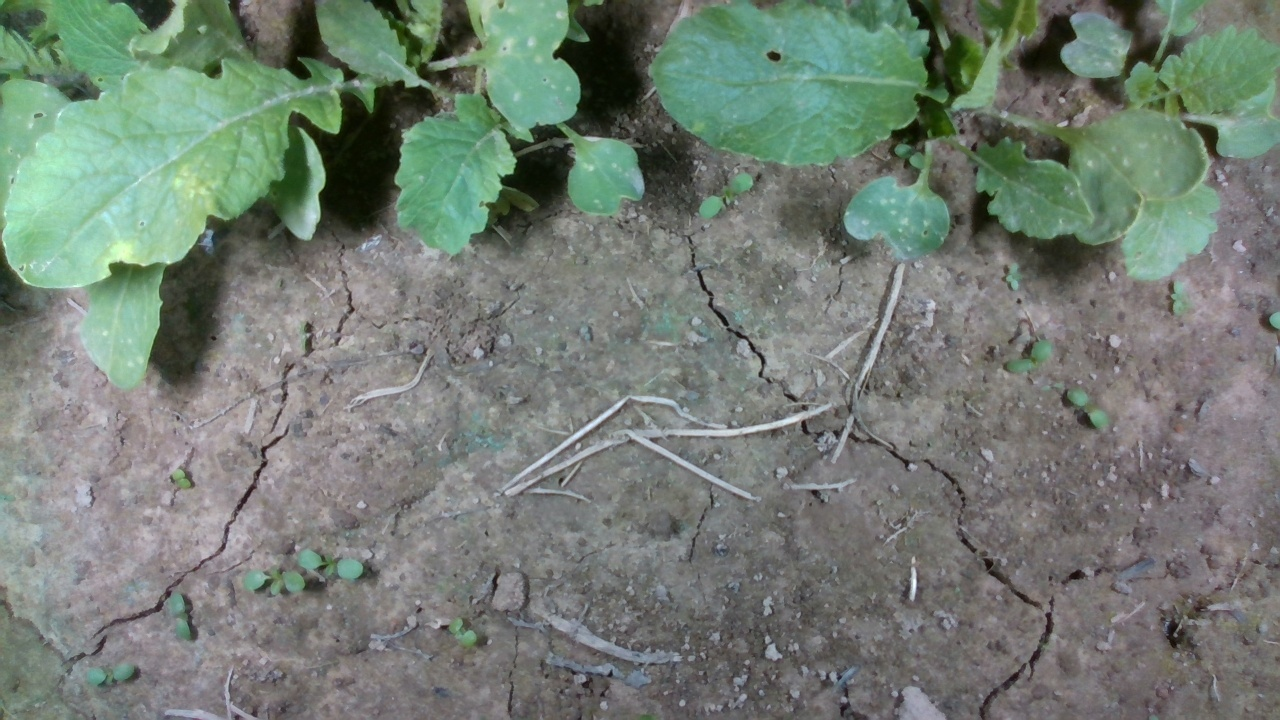weed: (697, 172, 753, 220), (1065, 385, 1111, 435), (1003, 339, 1053, 375), (80, 659, 135, 689), (446, 615, 478, 650), (170, 591, 192, 640), (1170, 279, 1186, 319), (169, 467, 191, 492), (1001, 272, 1020, 291)
